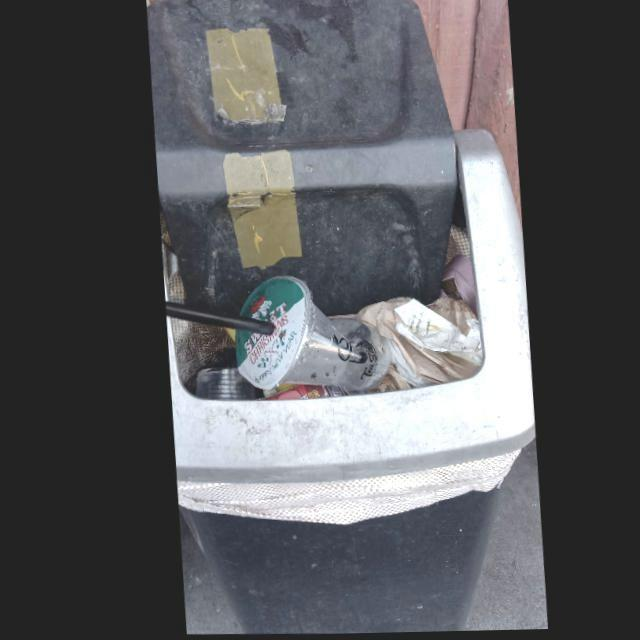plastic_container: (228, 277, 382, 392)
